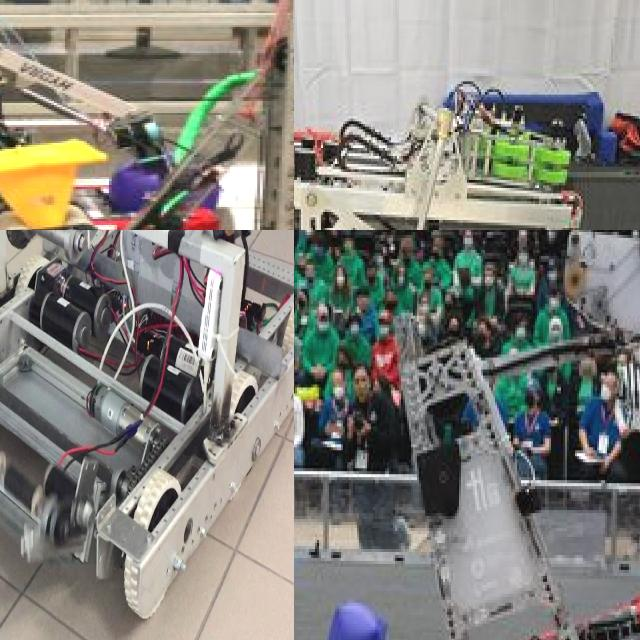FRC-Robots: (0, 230, 294, 626), (367, 230, 640, 640), (0, 0, 294, 230), (294, 80, 640, 230)
